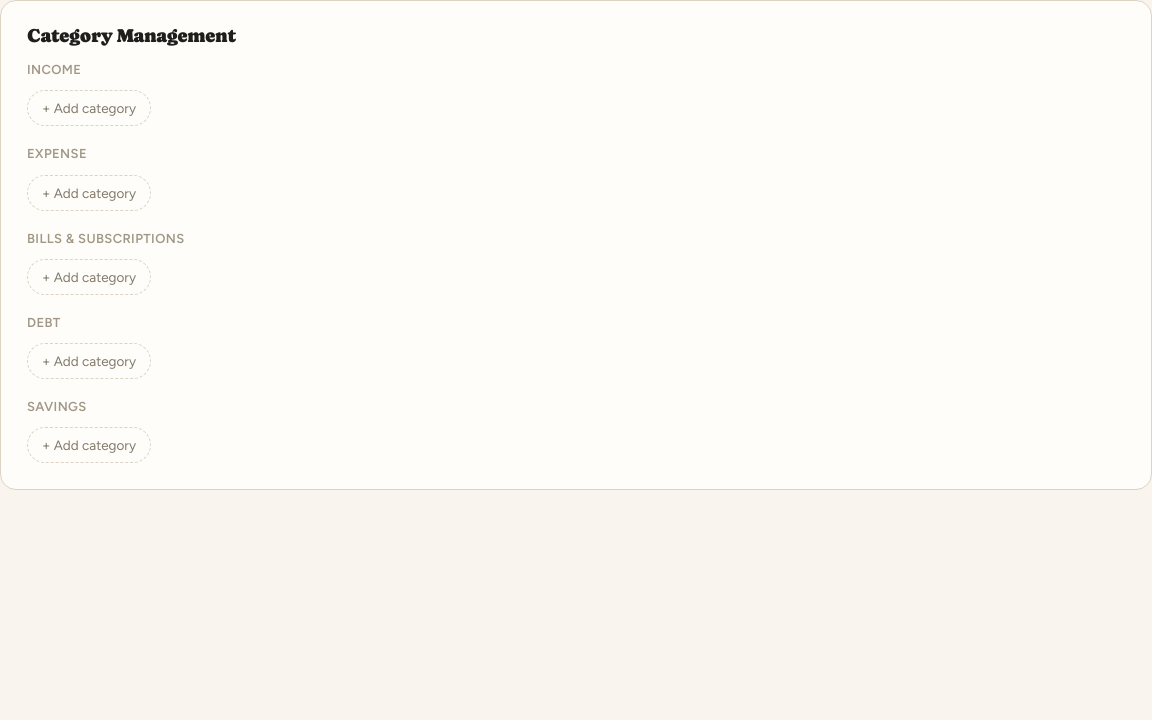
Scenario: CategoryManagement › adds a Category under a Type and shows it without a reload
Click the button "+ Add category" below "Expense" at (89, 192), box left=27, top=174, right=151, bottom=210
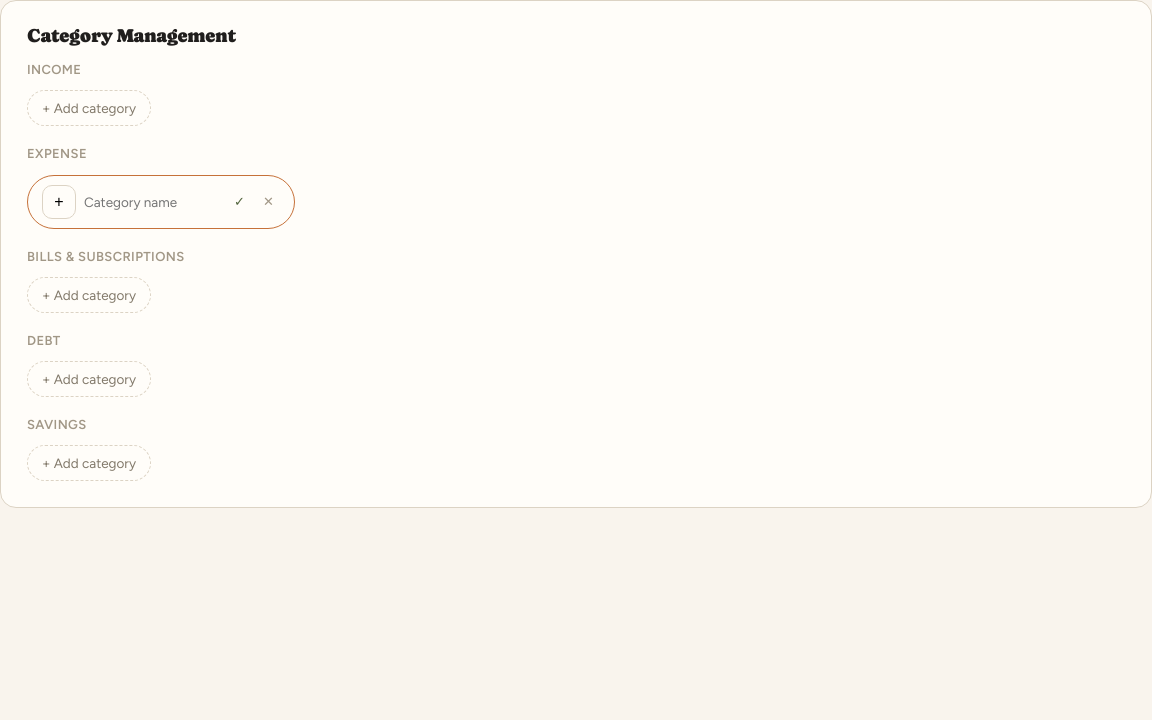
Type "Pets" into the field labelled "Category name" at (152, 202), box left=82, top=192, right=222, bottom=210
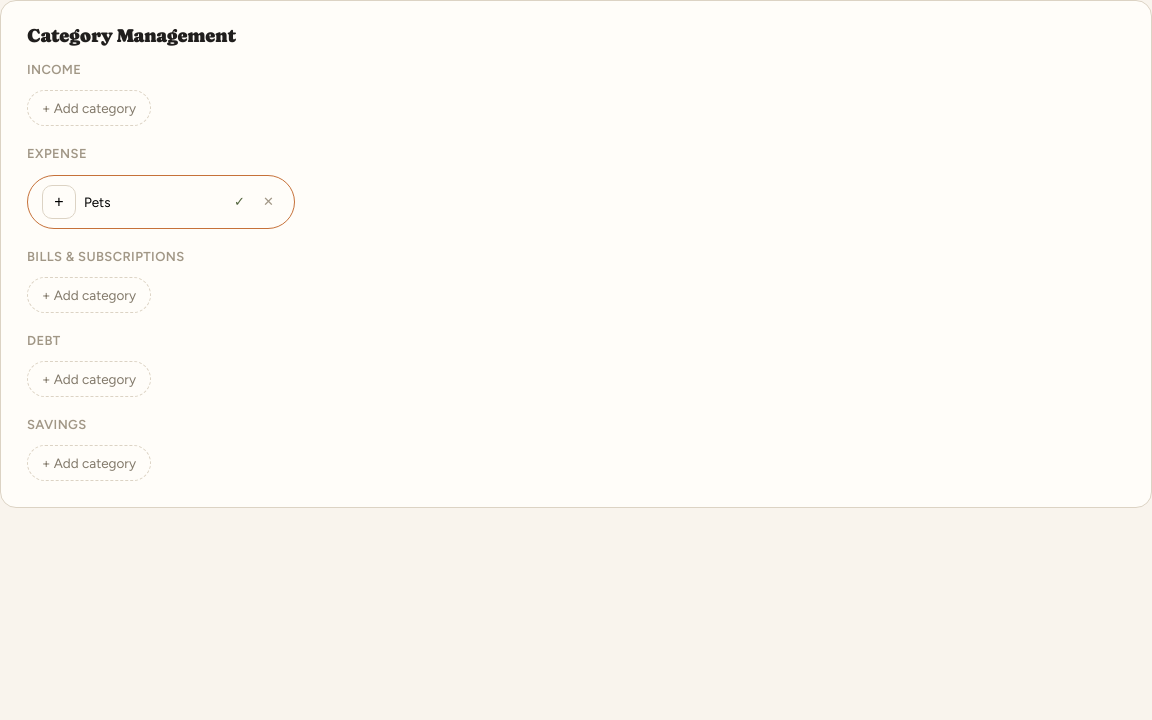
Click the button named "Save" at (239, 202), box left=228, top=193, right=251, bottom=210
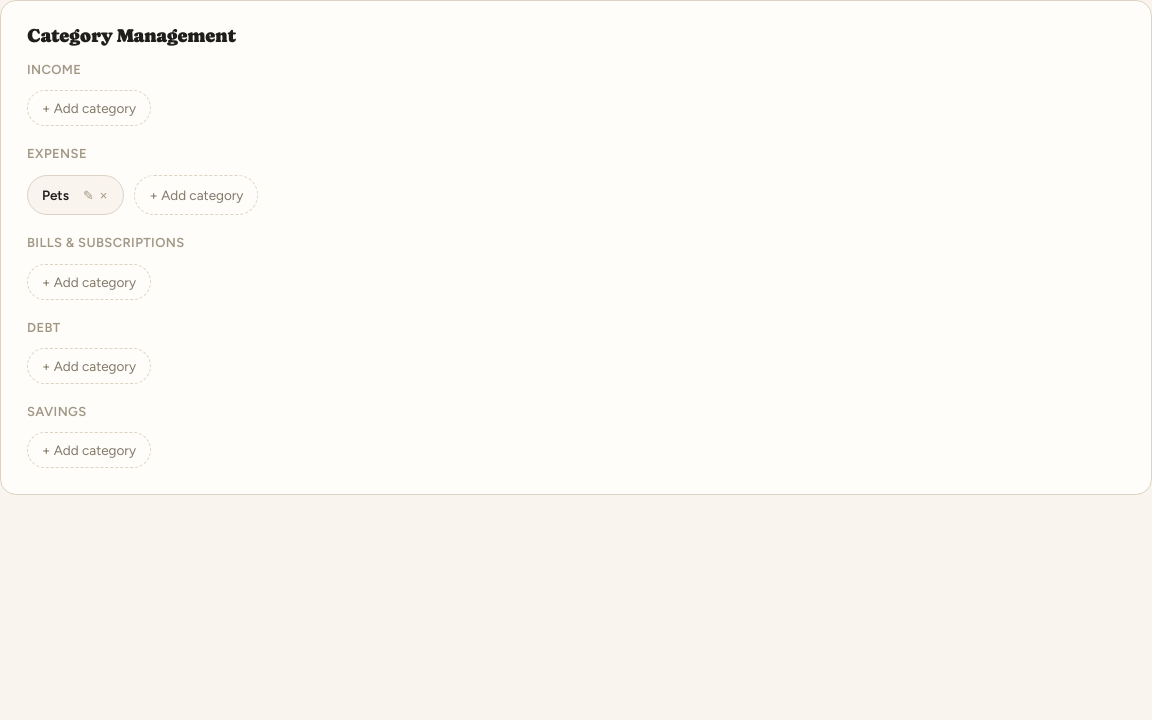
Check: the text "Pets" is shown, box left=42, top=184, right=69, bottom=205
